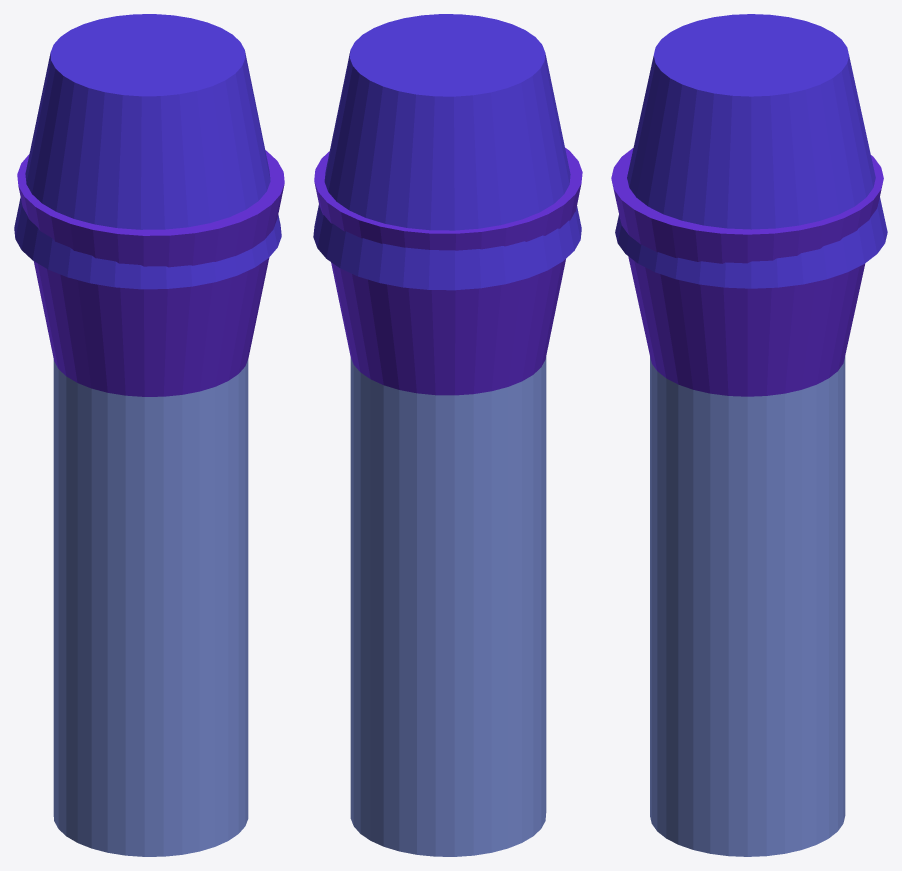
The model's file is tower.glb.
3 views of the same model, side by side, from view 1: azimuth 30°, elevation 25°; view 2: azimuth 150°, elevation 25°; view 3: azimuth 270°, elevation 25° (orthographic).
Visible parts, largest first — view 1: Цилиндр, Цилиндр.002, Цилиндр.001; view 2: Цилиндр, Цилиндр.002, Цилиндр.001; view 3: Цилиндр, Цилиндр.002, Цилиндр.001.
Boxes of the visible parts, x1,y1,x2,y2 form: Цилиндр: (53,359,248,856); Цилиндр.002: (14,14,281,289); Цилиндр.001: (17,150,284,396); Цилиндр: (350,357,546,856); Цилиндр.002: (313,14,581,290); Цилиндр.001: (314,147,582,395); Цилиндр: (650,356,845,856); Цилиндр.002: (615,14,887,288); Цилиндр.001: (611,148,883,396).
Bounding box in the file's own units: 2.74 × 8.58 × 2.83.
